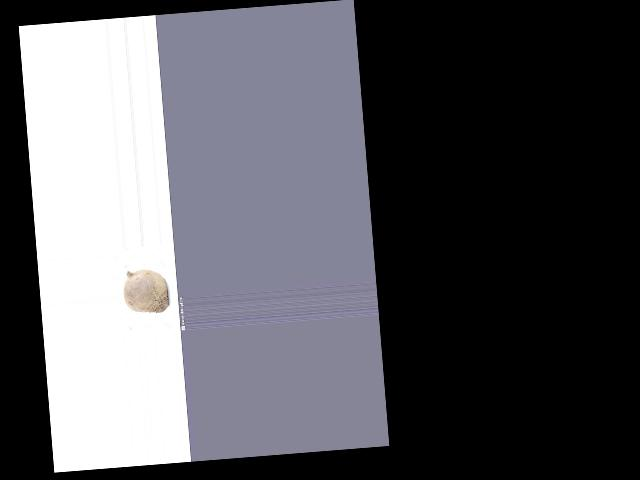beet: (122, 267, 170, 314)
